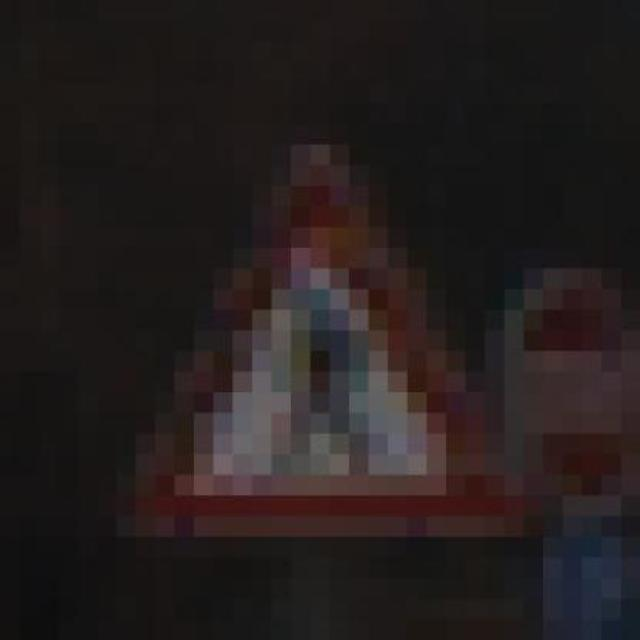Pedestrian Crossing: (77, 103, 543, 557)
